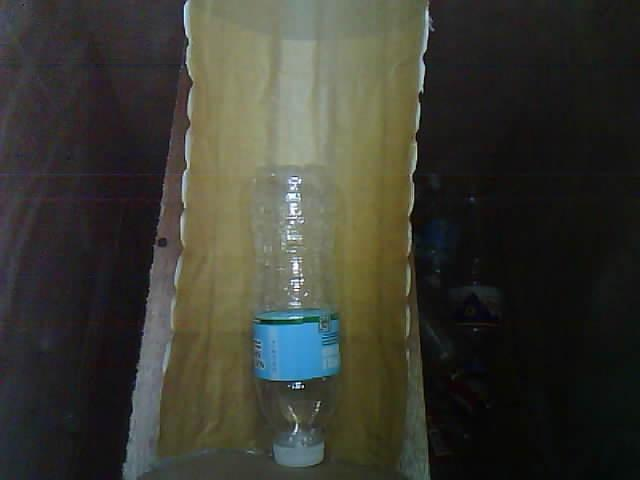small_bottle: (227, 155, 359, 480)
